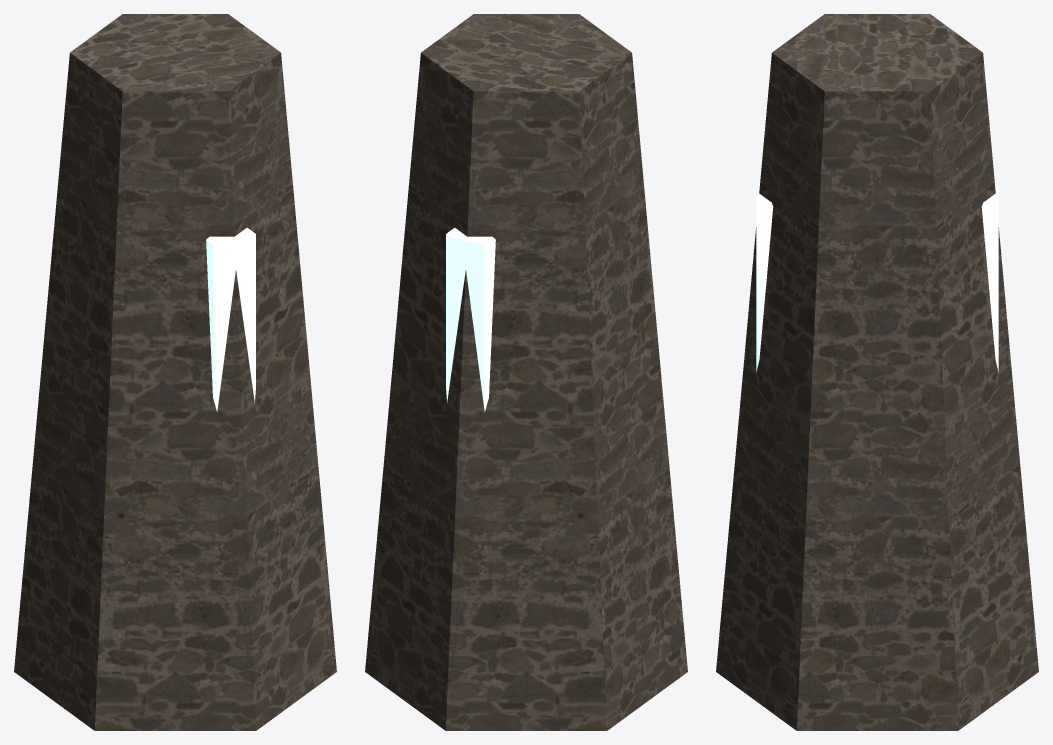
The model's file is prop_oath_rune_stone.glb.
3 views of the same model, side by side, from view 1: azimuth 30°, elevation 25°; view 2: azimuth 150°, elevation 25°; view 3: azimuth 270°, elevation 25° (orthographic).
Visible parts, largest first — view 1: PROP_OathRuneStone; view 2: PROP_OathRuneStone; view 3: PROP_OathRuneStone.
Part boxes in pixels (bbox=[...]): PROP_OathRuneStone: bbox=[14, 14, 336, 730]; PROP_OathRuneStone: bbox=[365, 14, 687, 730]; PROP_OathRuneStone: bbox=[716, 14, 1038, 730].
Bounding box in the file's own units: 0.9007 × 2.2 × 1.04.
2 materials, 1 textured.
